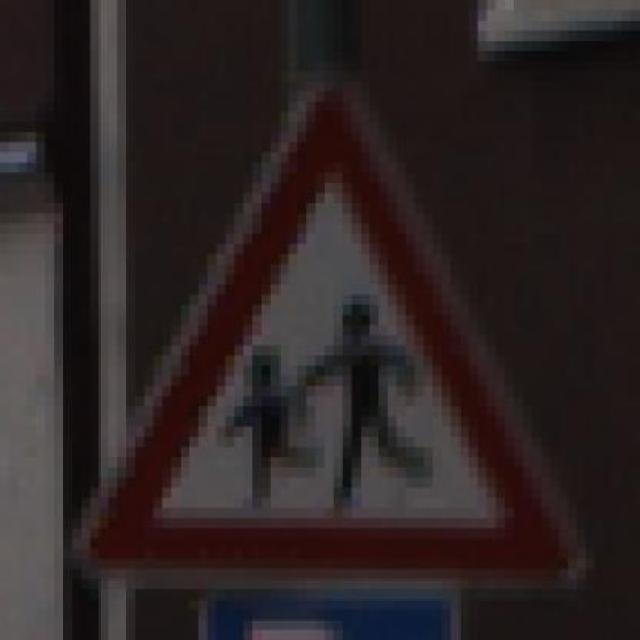Beware of children: (54, 71, 595, 609)
